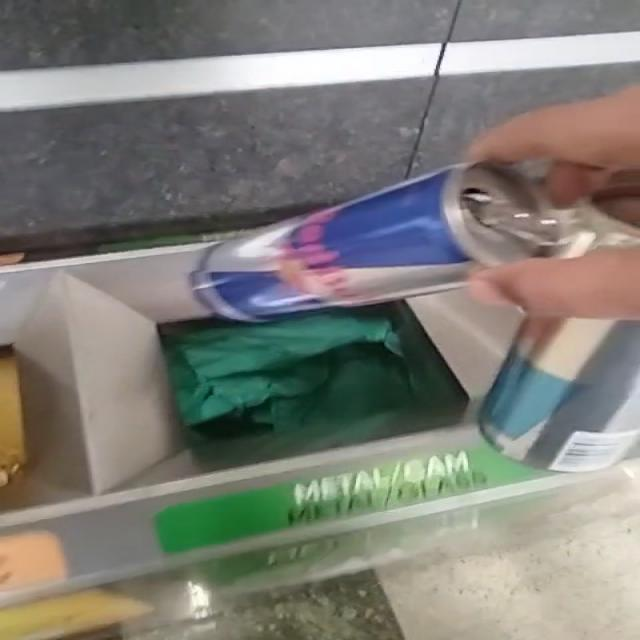Bin: (0, 244, 539, 577)
Metal: (193, 164, 640, 320)
